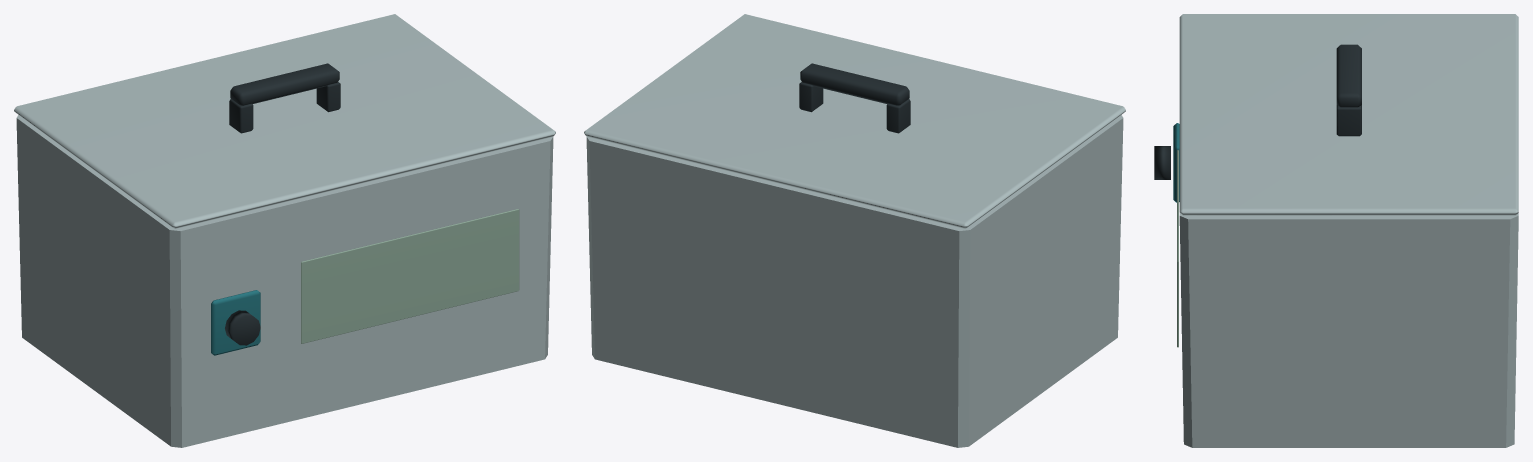
Rendered from VLAB_water_bath.fbx.
3 views of the same model, side by side, from view 1: azimuth 30°, elevation 25°; view 2: azimuth 150°, elevation 25°; view 3: azimuth 270°, elevation 25° (orthographic). The views are drawn at different scales.
Parts seen in each view (by area): view 1: VLAB_water_bath_Tank_VIS, VLAB_water_bath_Lid_VIS, VLAB_water_bath_Display_VIS, VLAB_water_bath_Control_VIS; view 2: VLAB_water_bath_Tank_VIS, VLAB_water_bath_Lid_VIS; view 3: VLAB_water_bath_Tank_VIS, VLAB_water_bath_Lid_VIS, VLAB_water_bath_Control_VIS, VLAB_water_bath_Display_VIS.
Boxes of the visible parts, x1,y1,x2,y2 form: VLAB_water_bath_Tank_VIS: (16,115,553,447); VLAB_water_bath_Lid_VIS: (14,14,555,228); VLAB_water_bath_Display_VIS: (301,209,519,343); VLAB_water_bath_Control_VIS: (211,290,260,355); VLAB_water_bath_Tank_VIS: (586,115,1123,447); VLAB_water_bath_Lid_VIS: (584,14,1125,228); VLAB_water_bath_Tank_VIS: (1179,213,1518,447); VLAB_water_bath_Lid_VIS: (1179,14,1518,215); VLAB_water_bath_Control_VIS: (1154,123,1179,202); VLAB_water_bath_Display_VIS: (1177,150,1178,347).
Size of the model in its own units: 0.22 by 0.147 by 0.172.
